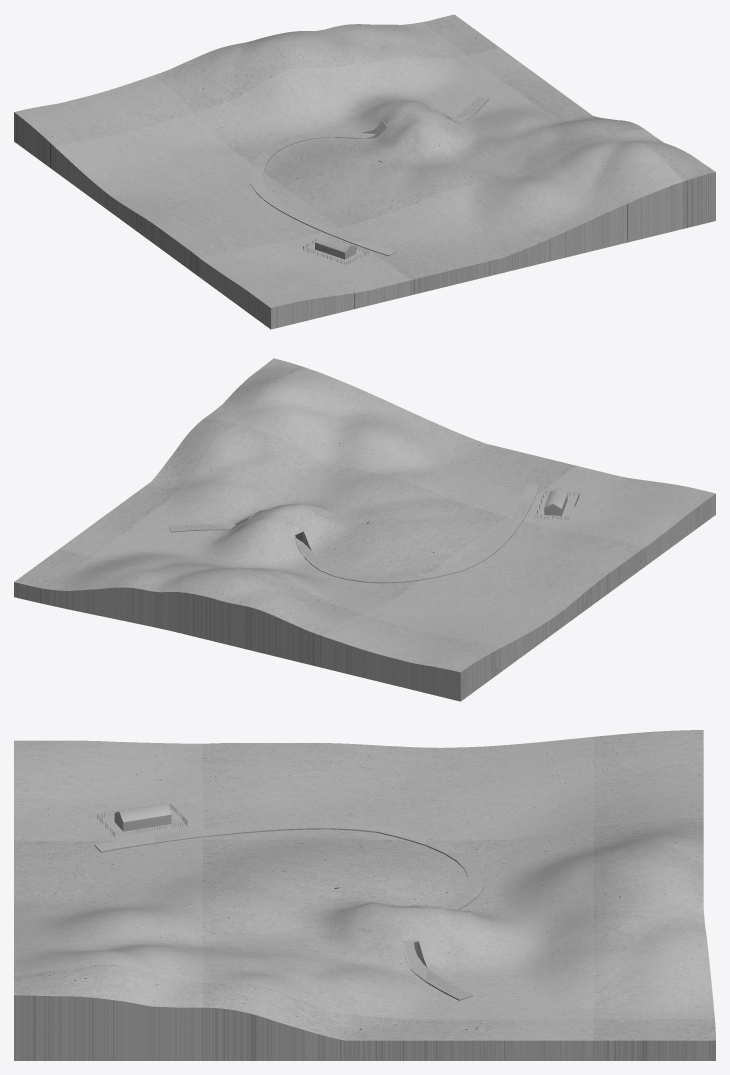
3 renders of one model, top to bottom at view 1: azimuth 30°, elevation 25°; view 2: azimuth 150°, elevation 25°; view 3: azimuth 270°, elevation 25°, orthographic. The views are drawn at different scales.
Parts seen in each view (by area): view 1: terrain001, path, house_001; view 2: terrain001, path; view 3: terrain001, path, house_001.
Part boxes in pixels (box(x1,y1,x2,y2)): terrain001: box(14, 14, 715, 329); path: box(250, 96, 489, 256); house_001: box(315, 235, 356, 259); terrain001: box(14, 358, 715, 701); path: box(169, 484, 539, 583); terrain001: box(14, 730, 715, 1060); path: box(94, 821, 485, 1000); house_001: box(114, 803, 171, 831).
Bounding box in the file's own units: 200 × 24.43 × 204.
1 material, 1 textured.
